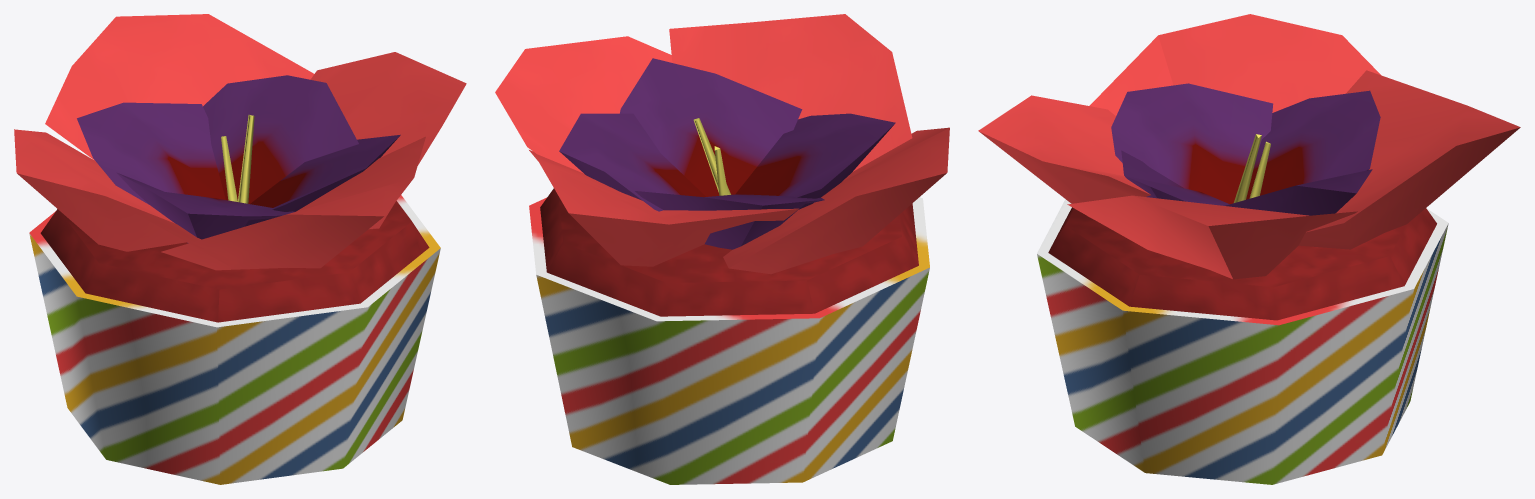
File: Cupcake_B_13.FBX
The picture shows the model from 3 angles, left to right: view 1: azimuth 30°, elevation 25°; view 2: azimuth 150°, elevation 25°; view 3: azimuth 270°, elevation 25°; orthographic projection. The views are drawn at different scales.
Parts seen in each view (by area): view 1: Cupcake_B; view 2: Cupcake_B; view 3: Cupcake_B.
Part boxes in pixels (x1,y1,x2,y2): Cupcake_B: (14, 14, 466, 484); Cupcake_B: (495, 14, 949, 484); Cupcake_B: (978, 14, 1520, 484).
Bounding box in the file's own units: 38.73 × 26.15 × 41.87.
